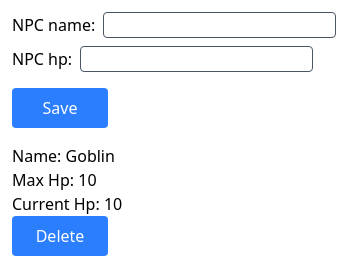
NpcCard › deletes and persists removal
Expected: the text "Name: Goblin" is shown, 12,145 -> 115,167
Click the button "Delete" at coordinates (60, 236), box 12,216 -> 108,256
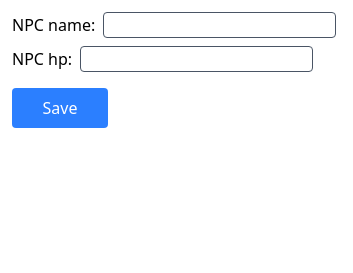
Result: the text "Name: Goblin" is gone
